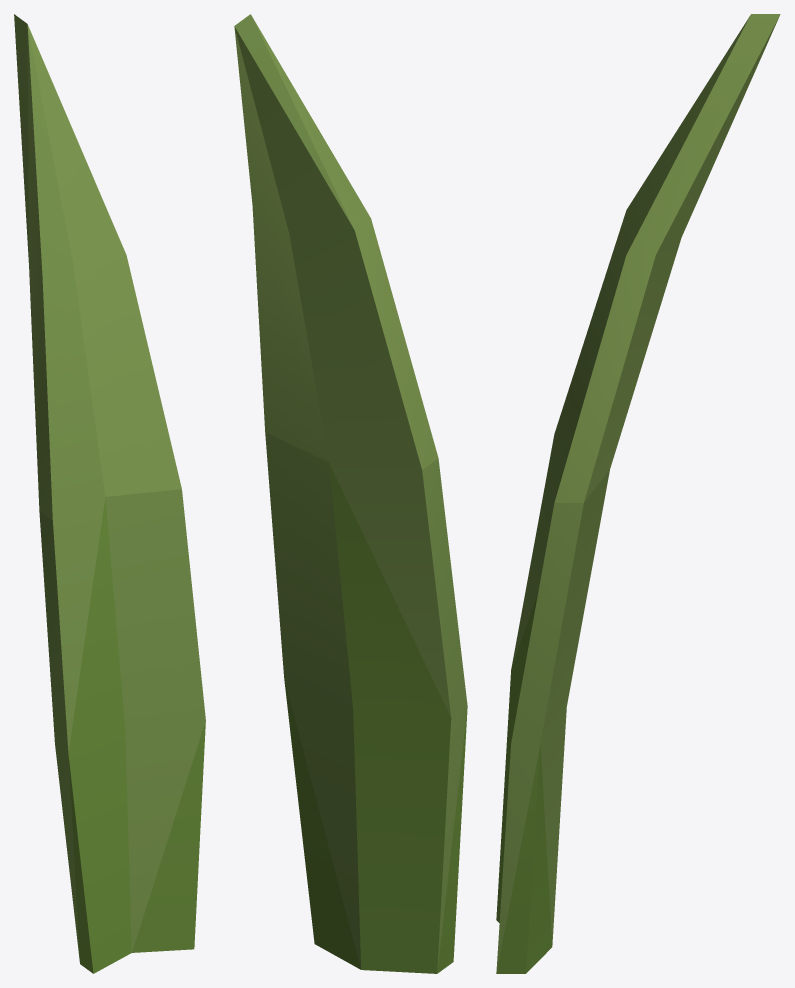
Rendered from itch_kaykit_forest_grass_2_a_color1.glb.
3 renders of one model, left to right at view 1: azimuth 30°, elevation 25°; view 2: azimuth 150°, elevation 25°; view 3: azimuth 270°, elevation 25°, orthographic. The views are drawn at different scales.
Visible parts, largest first — view 1: Grass_2_A_Color1; view 2: Grass_2_A_Color1; view 3: Grass_2_A_Color1.
Boxes of the visible parts, x1,y1,x2,y2 form: Grass_2_A_Color1: [14, 14, 205, 973]; Grass_2_A_Color1: [234, 14, 467, 973]; Grass_2_A_Color1: [496, 14, 780, 973].
Bounding box in the file's own units: 0.3122 × 1.85 × 0.5108.
